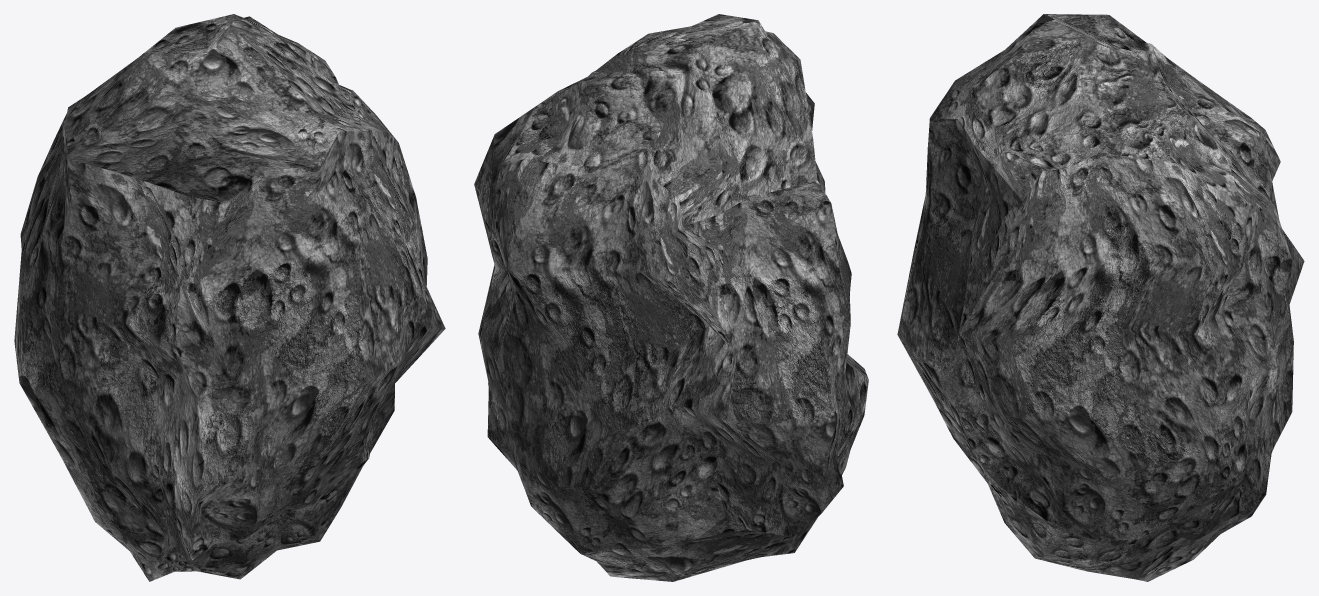
File: Asteroid001.FBX
3 renders of one model, left to right at view 1: azimuth 30°, elevation 25°; view 2: azimuth 150°, elevation 25°; view 3: azimuth 270°, elevation 25°, orthographic. The views are drawn at different scales.
Visible parts, largest first — view 1: Box001; view 2: Box001; view 3: Box001.
Boxes of the visible parts, bbox=[...] form: Box001: bbox=[14, 14, 445, 581]; Box001: bbox=[474, 14, 868, 581]; Box001: bbox=[897, 14, 1304, 581].
Bounding box in the file's own units: 104 × 156 × 109.
